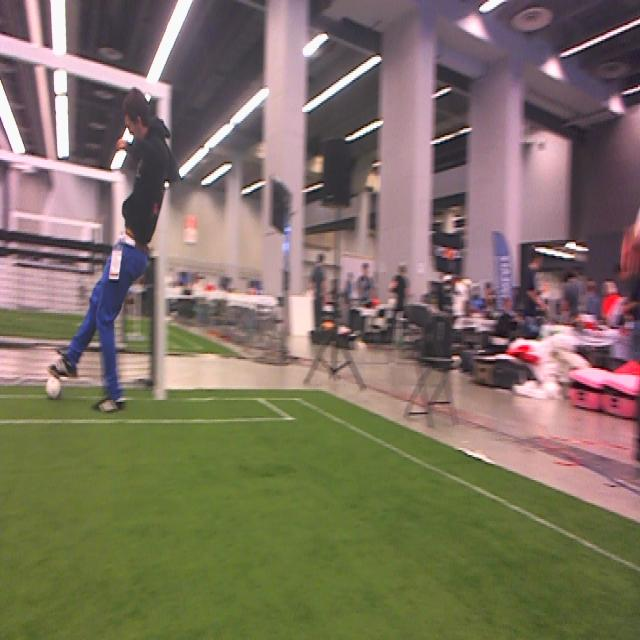ball: (45, 372, 66, 404)
goalpost: (152, 185, 169, 396)
